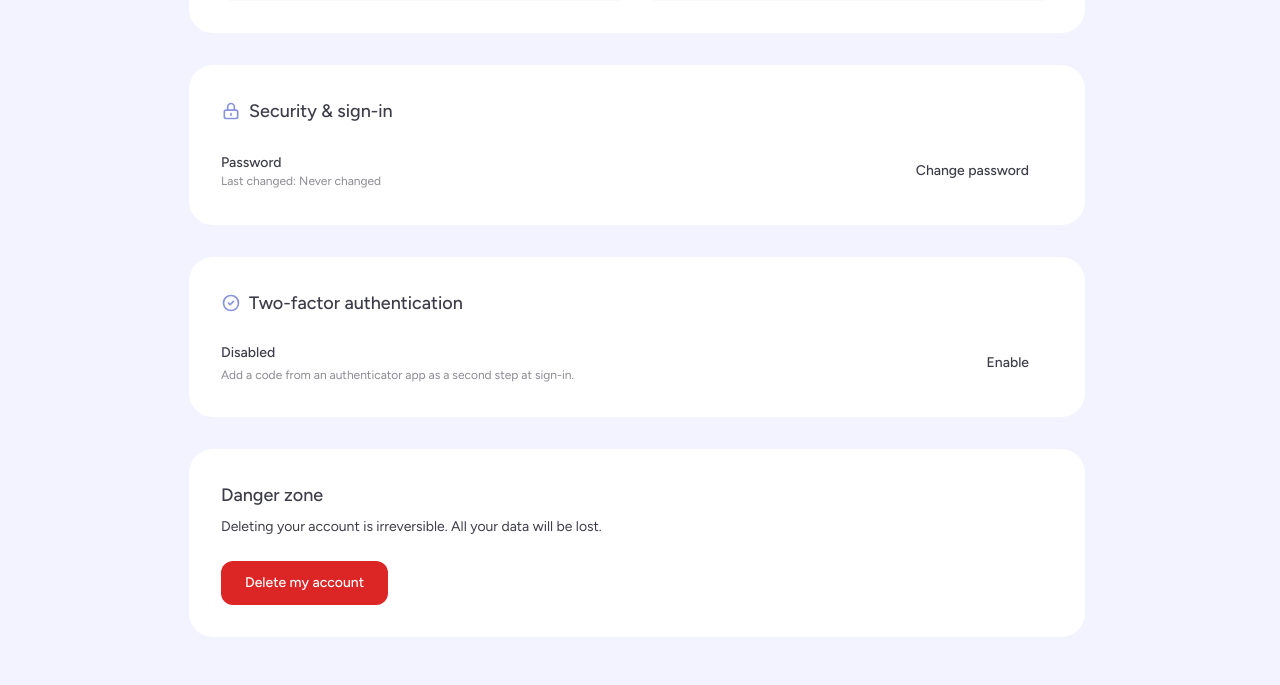
it: Profile › two-factor authentication › shows "Disabled" and an Enable button, which opens the setup modal
(page scrolled)
Expected: the text "Disabled" is shown, [221, 344, 275, 361]
Click the button "Enable".
click(1008, 363)  # box [962, 341, 1053, 385]
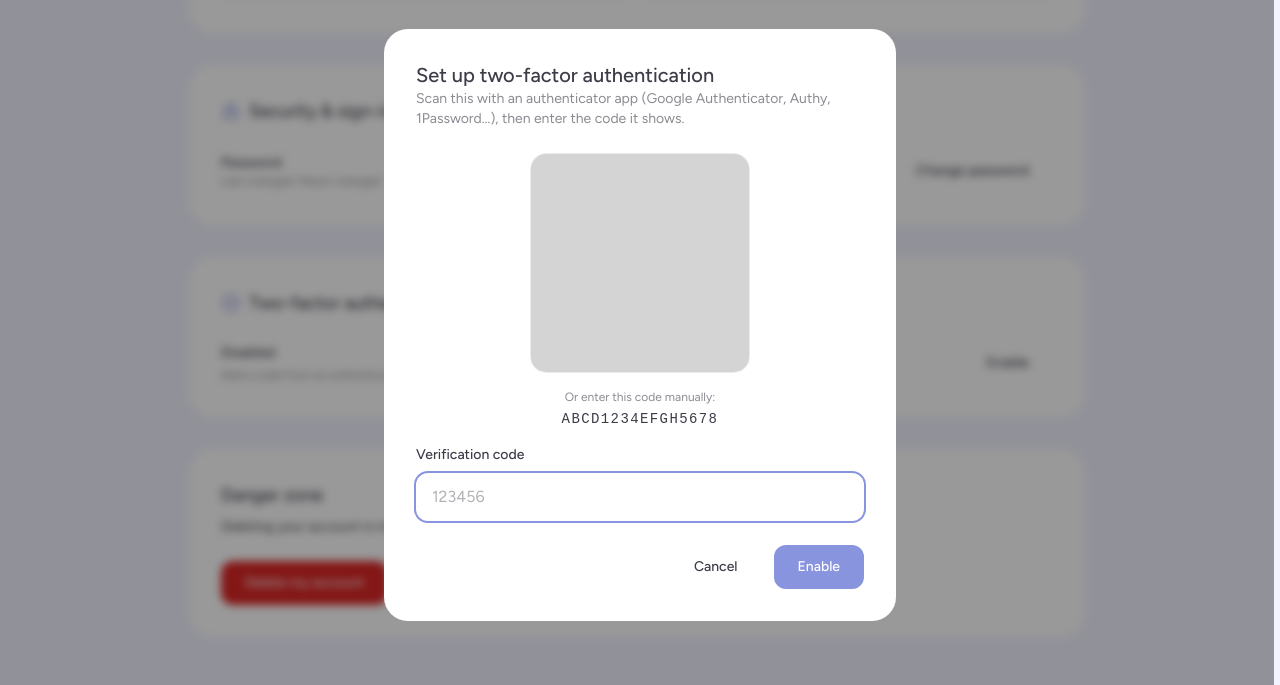
Result: the text "Or enter this code manually:" is shown at [565, 390, 715, 404]
Result: the text "ABCD1234EFGH5678" is shown at [562, 411, 718, 427]
